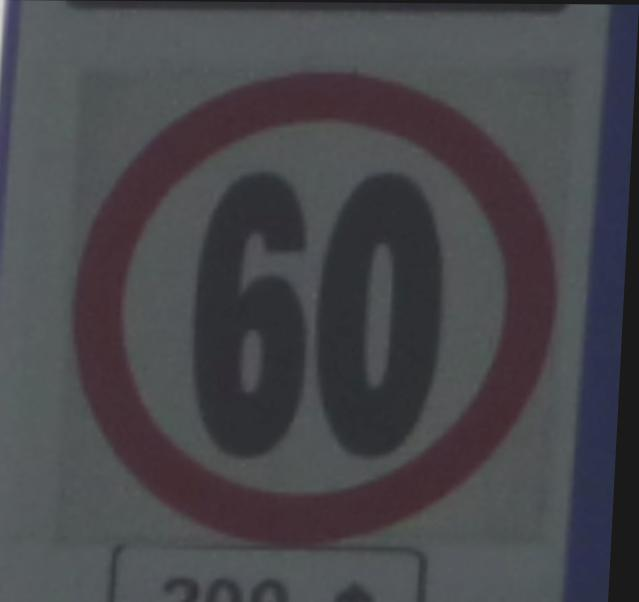limit60: (48, 57, 581, 563)
